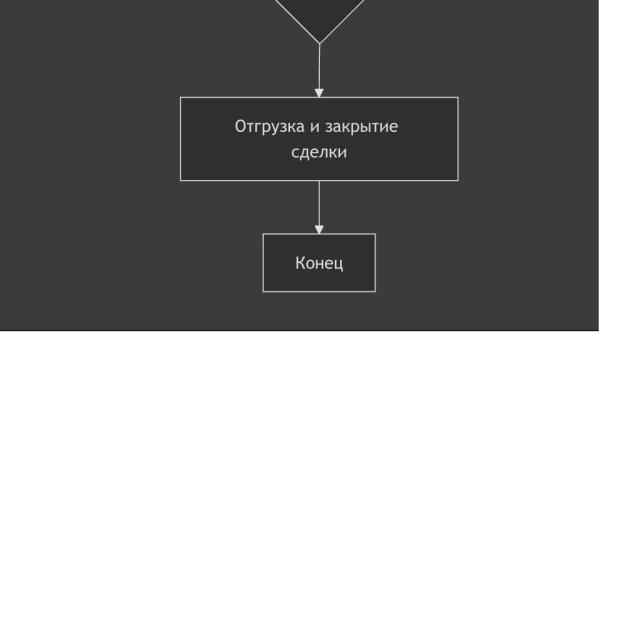arrow: (315, 181, 323, 233), (315, 44, 323, 96)
rectangle: (180, 97, 458, 181), (263, 234, 376, 292)
